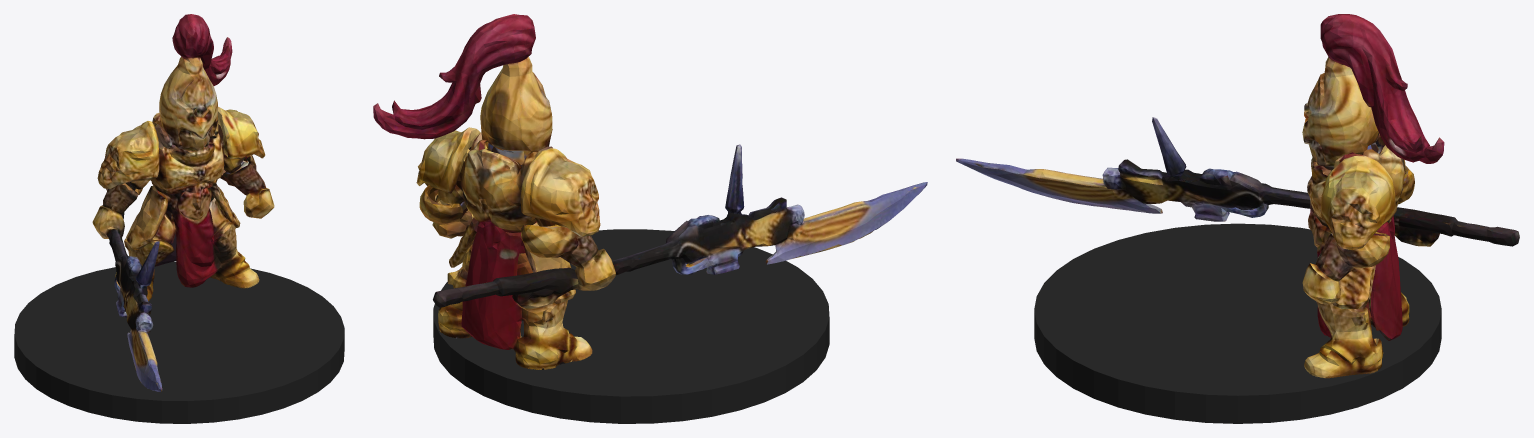
The model's file is custodian-guard-spear.glb.
3 views of the same model, side by side, from view 1: azimuth 30°, elevation 25°; view 2: azimuth 150°, elevation 25°; view 3: azimuth 270°, elevation 25° (orthographic). The views are drawn at different scales.
Visible parts, largest first — view 1: base, figure; view 2: figure, base; view 3: base, figure.
Part boxes in pixels (x1,y1,x2,y2): base: (14, 261, 344, 423); figure: (92, 14, 274, 391); figure: (373, 14, 927, 369); base: (433, 229, 829, 423); base: (1034, 223, 1441, 423); figure: (956, 14, 1519, 378).
Bounding box in the file's own units: 1.57 × 1.52 × 2.18.
Materials: 2 (1 with a texture image).
